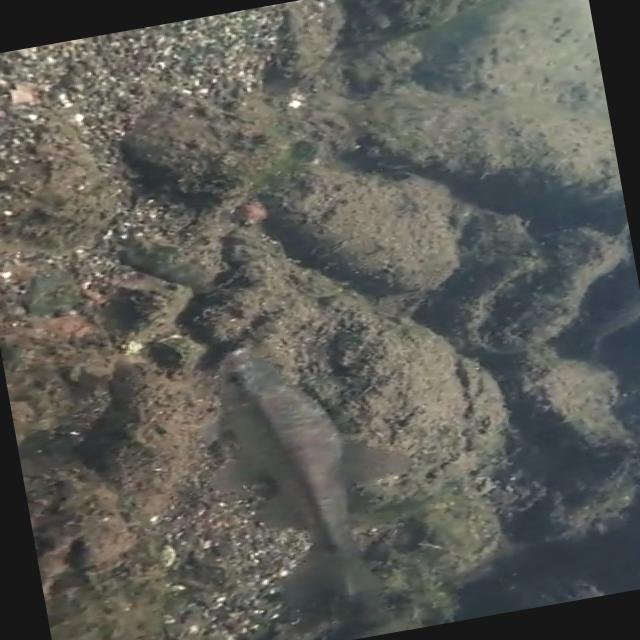Cakil Baligi: (188, 322, 428, 631)
